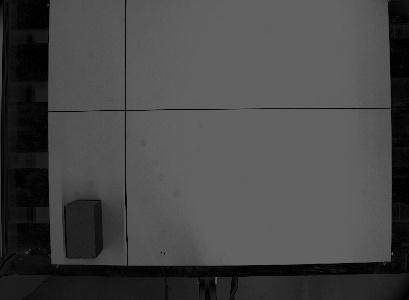b2: (61, 197, 104, 261)
